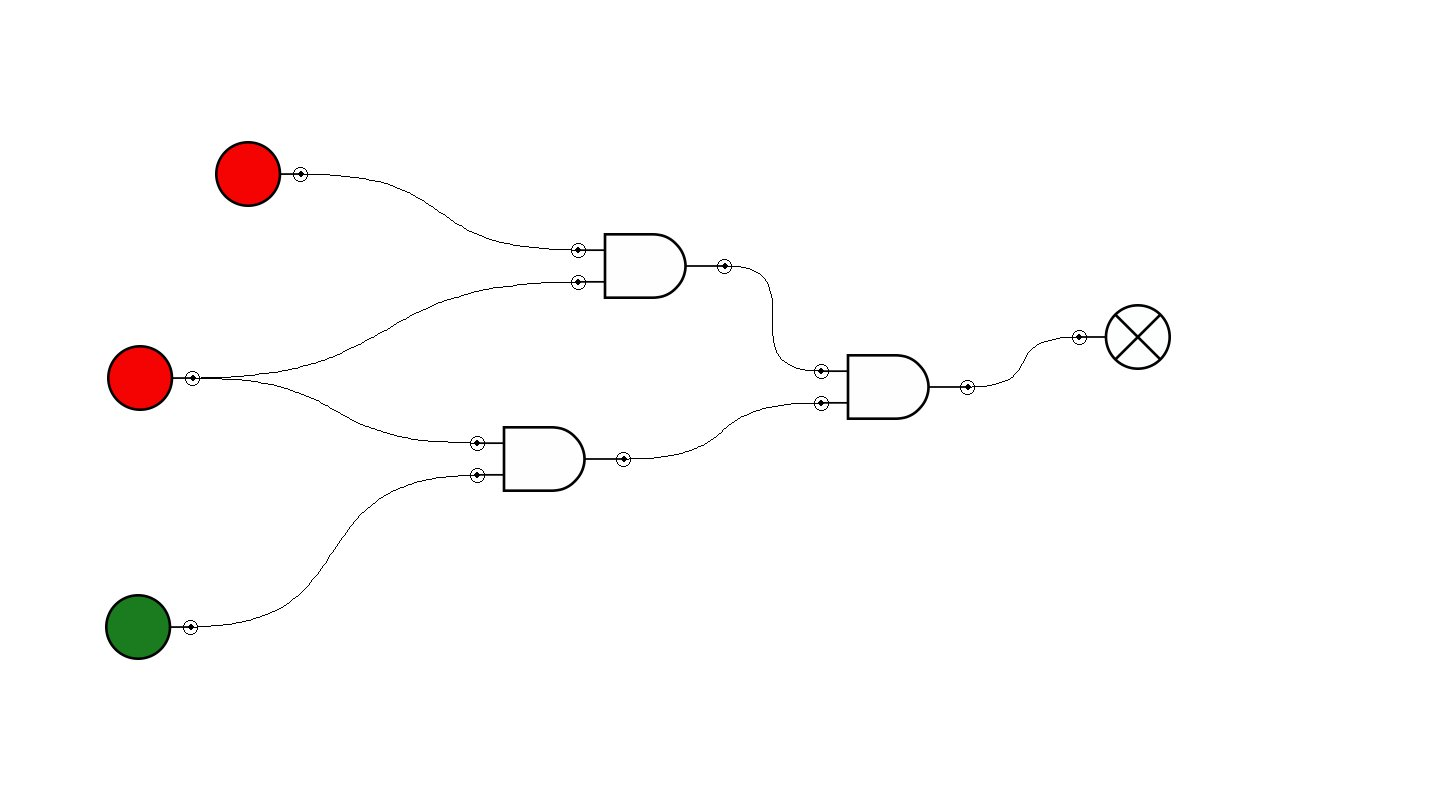and: (814, 354, 975, 420), (571, 233, 732, 299), (470, 426, 631, 492)
bulb: (1072, 304, 1171, 370)
switch_False: (107, 345, 200, 411), (215, 141, 308, 207)
switch_True: (105, 594, 198, 660)
